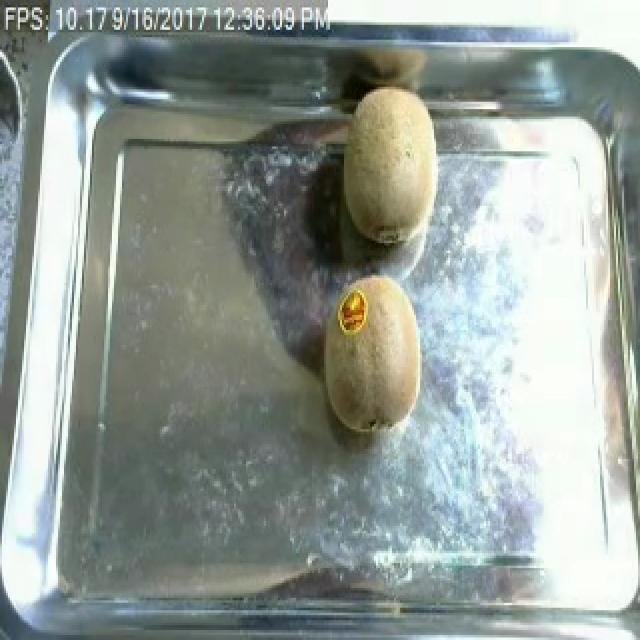Fruit: (306, 266, 434, 442), (334, 77, 450, 253)
